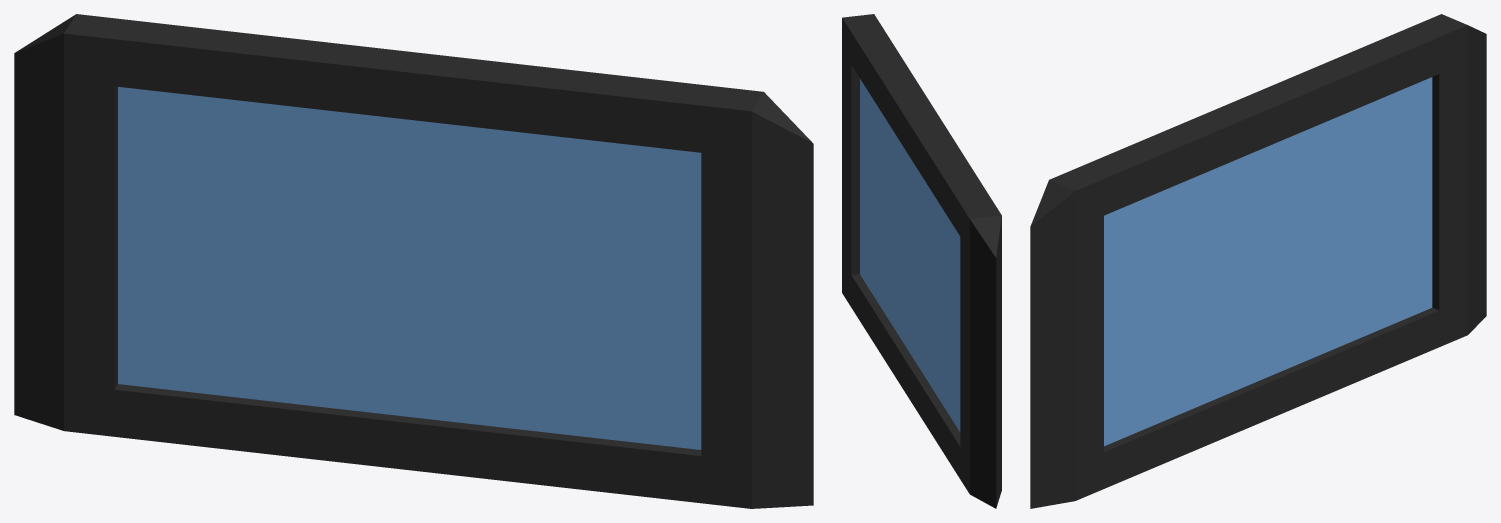
File: DoubleSided_Collider.fbx
The picture shows the model from 3 angles, left to right: view 1: azimuth 30°, elevation 25°; view 2: azimuth 150°, elevation 25°; view 3: azimuth 270°, elevation 25°; orthographic projection. The views are drawn at different scales.
Visible parts, largest first — view 1: DoubleSided_Collider; view 2: DoubleSided_Collider; view 3: DoubleSided_Collider.
Part boxes in pixels (bbox=[...]): DoubleSided_Collider: bbox=[14, 14, 813, 508]; DoubleSided_Collider: bbox=[842, 14, 1001, 508]; DoubleSided_Collider: bbox=[1030, 14, 1486, 508].
Bounding box in the file's own units: 200 × 150 × 200.
